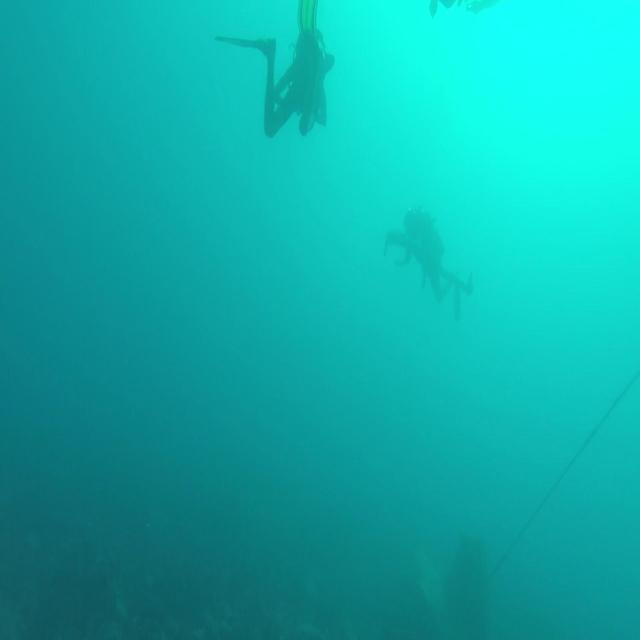human: (214, 0, 335, 139), (383, 204, 473, 321)
